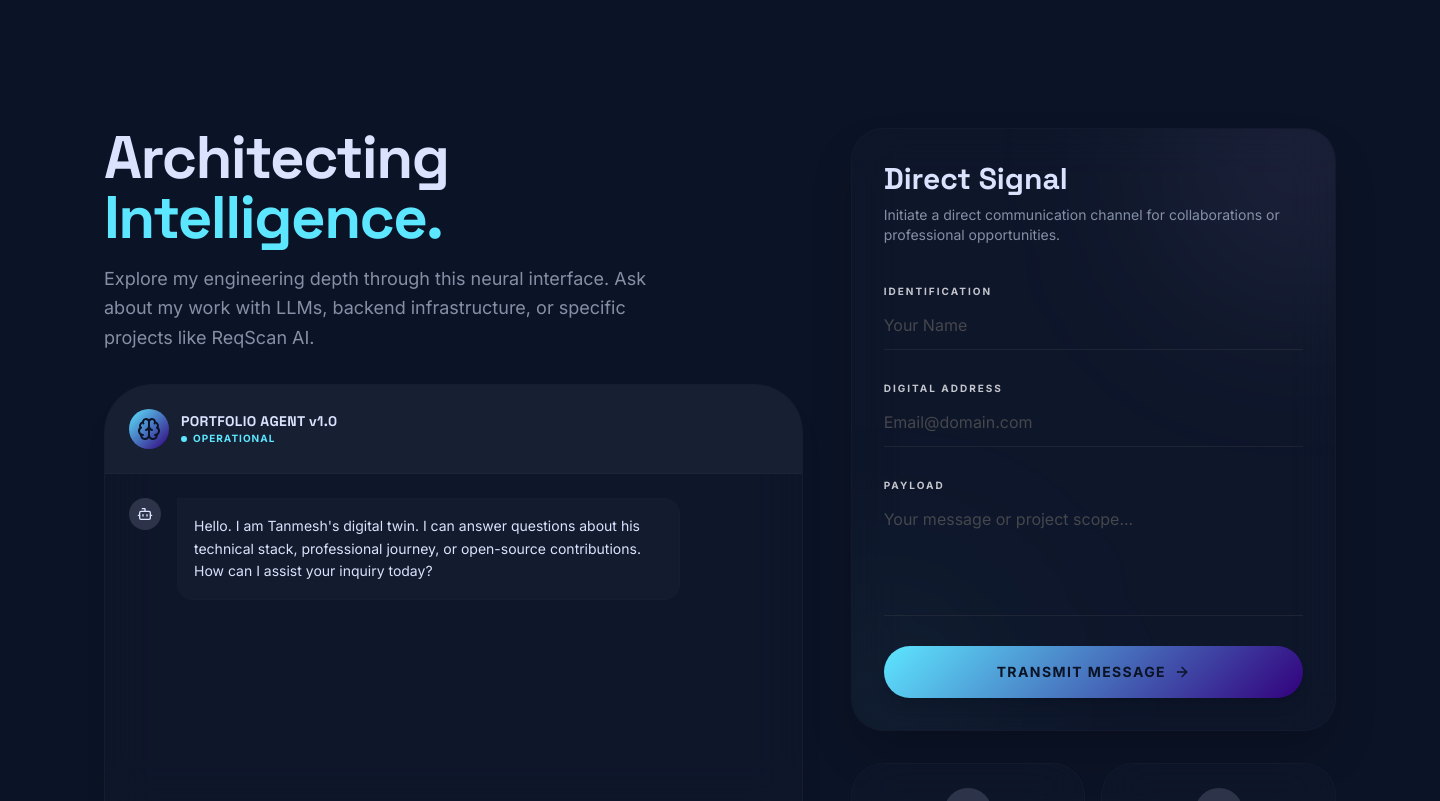
Test: AssistantScreen › submits the contact form and shows a success message
Type "Jane Doe" into the field labelled "Identification".
click(1093, 326); type("Jane Doe")  # box [884,301,1303,350]
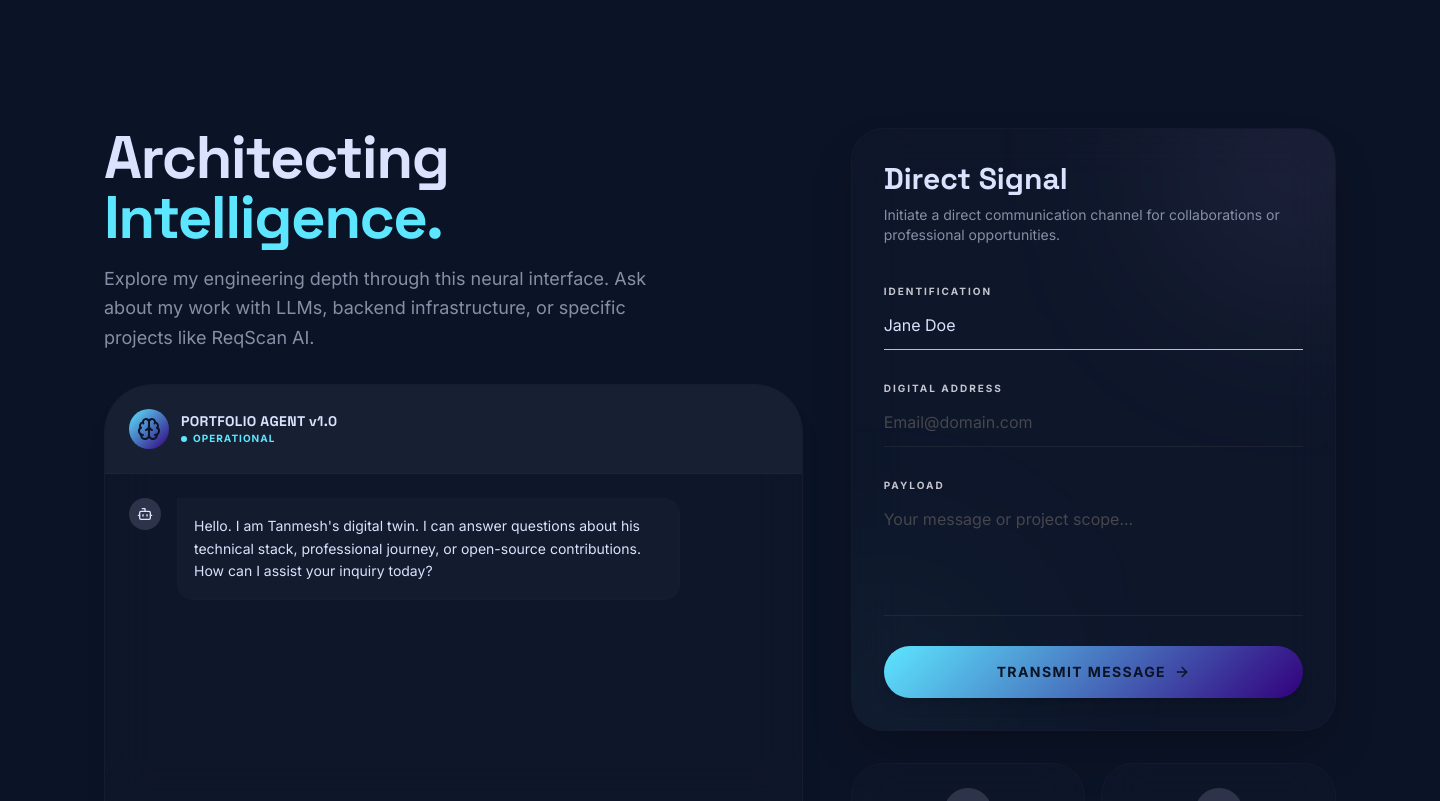
Type "jane@example.com" into the field labelled "Digital Address".
click(1093, 422); type("jane@example.com")  # box [884,398,1303,447]
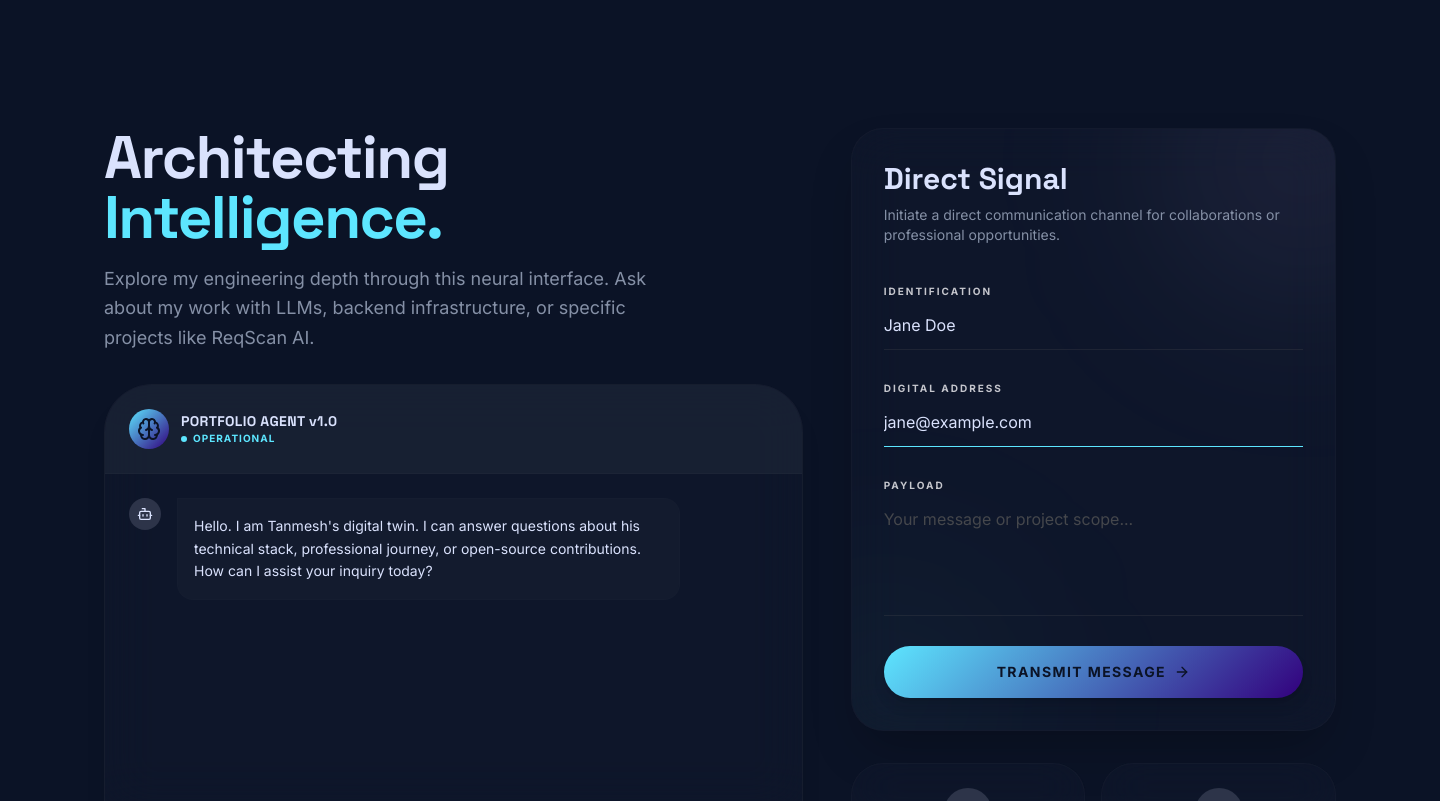
Type "Interested in collaborating." into the text box labelled "Payload".
click(1093, 556); type("Interested in collaborating.")  # box [884,495,1303,616]
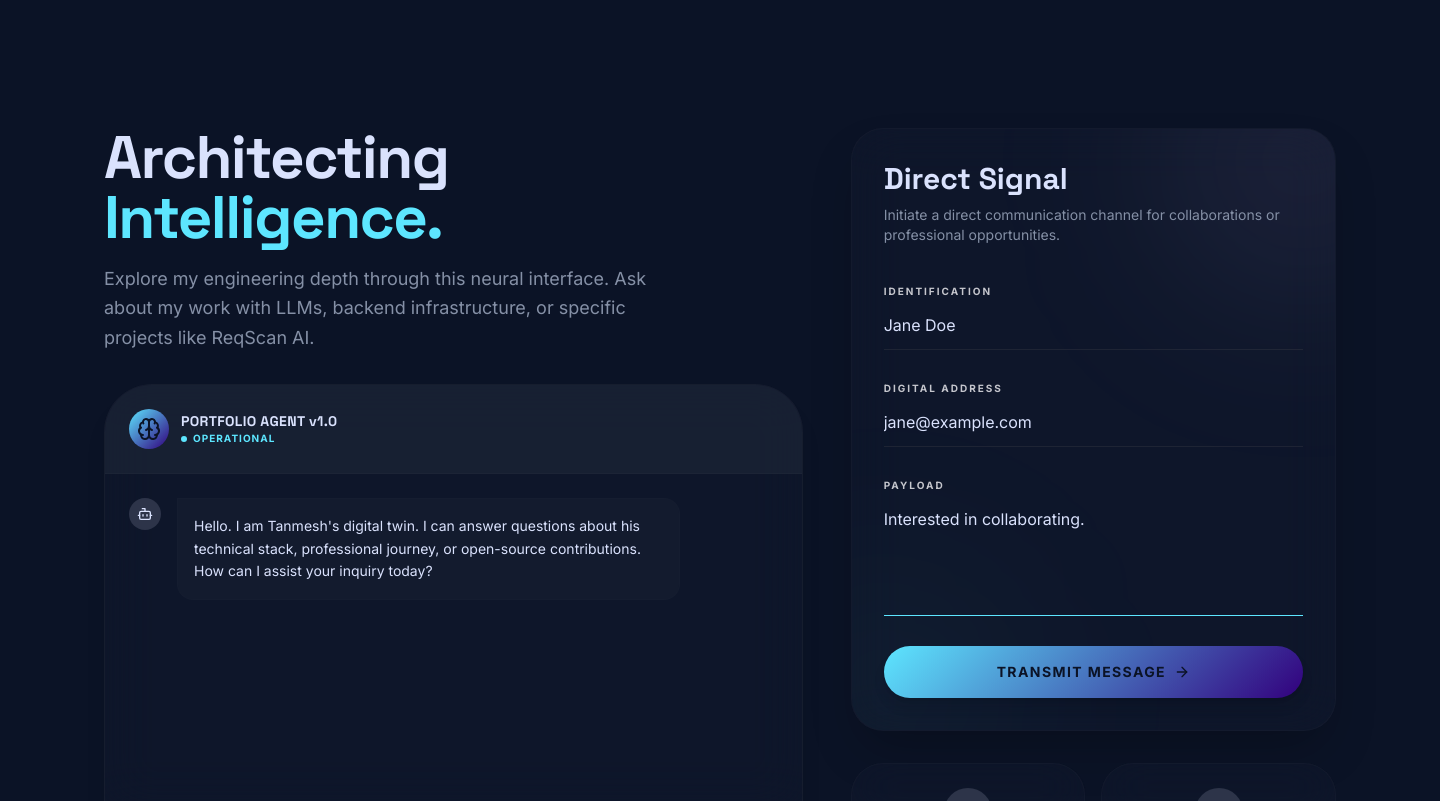
Click the button "Transmit Message".
click(1093, 672)  # box [884,646,1303,698]
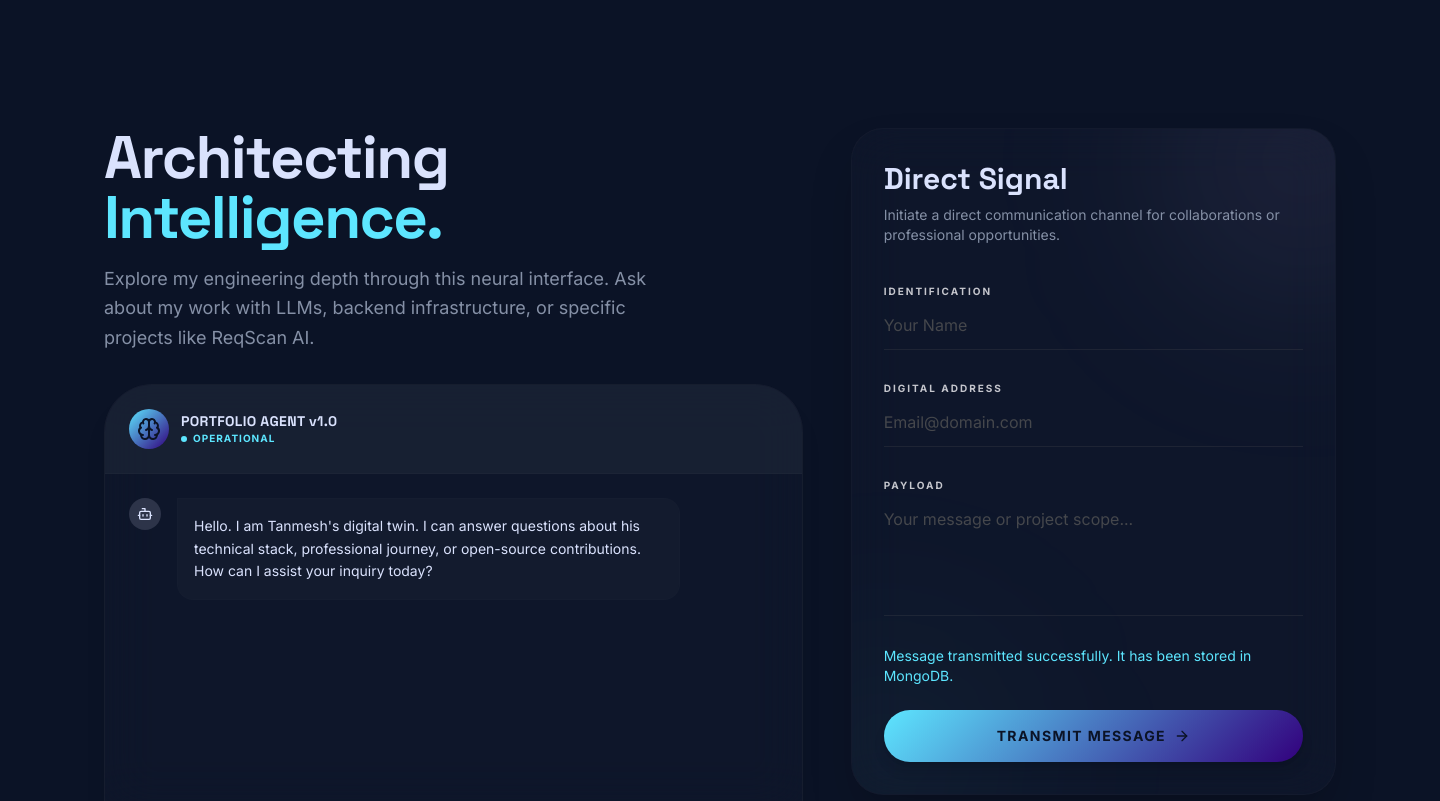
expect the text "Message transmitted successfully" is shown: met, box [884,647,1251,684]
